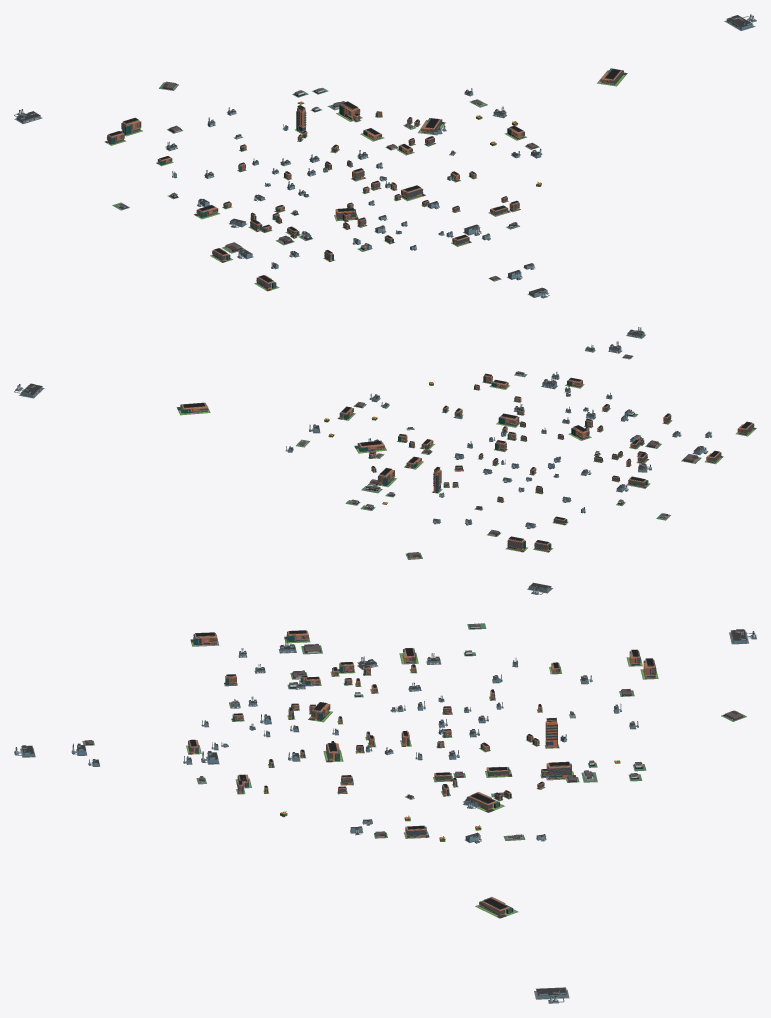
Rendered from berlin2.glb.
The picture shows the model from 3 angles, top to bottom: view 1: azimuth 30°, elevation 25°; view 2: azimuth 150°, elevation 25°; view 3: azimuth 270°, elevation 25°; orthographic projection. The views are drawn at different scales.
Visible parts, largest first — view 1: berlin; view 2: berlin; view 3: berlin.
Part boxes in pixels (box(x1,y1,x2,y2)): berlin: box(14, 14, 756, 298); berlin: box(14, 327, 756, 594); berlin: box(14, 623, 756, 1003).
Size of the model in its own units: 2412 by 82.57 by 1991.
Materials: 8 (8 with a texture image).
